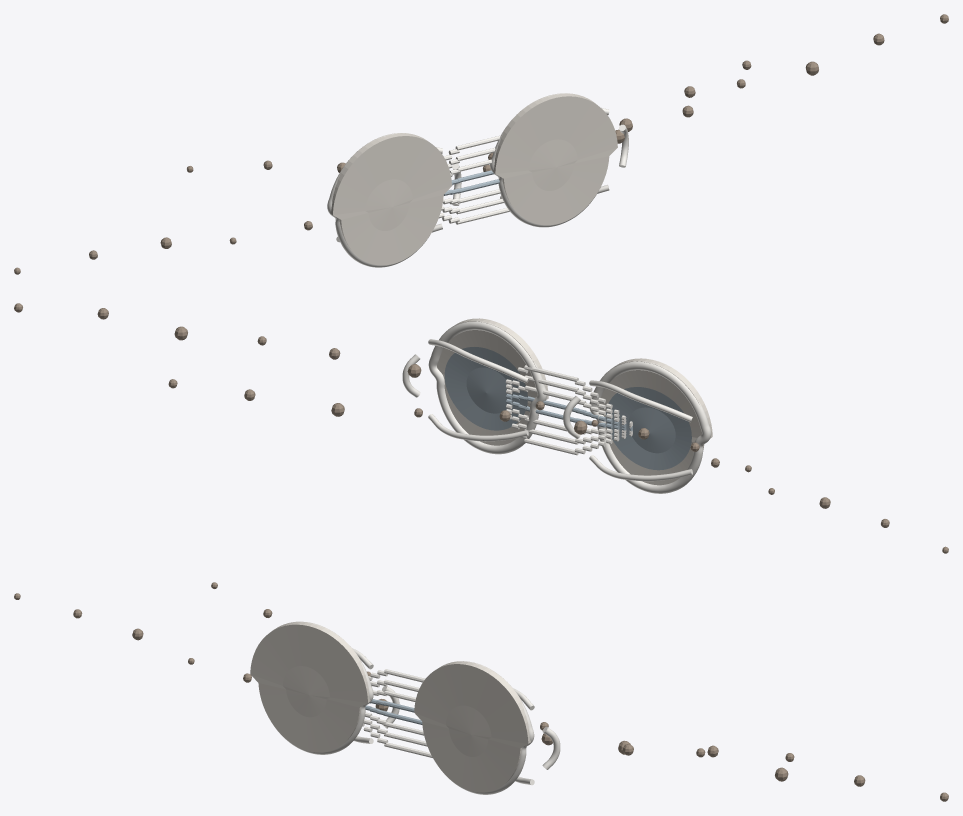
File: sandal.glb
3 renders of one model, top to bottom at view 1: azimuth 30°, elevation 25°; view 2: azimuth 150°, elevation 25°; view 3: azimuth 330°, elevation 25°, orthographic.
Visible parts, largest first — view 1: right_sole, left_sole, left_border, right_toeknots, right_border; view 2: left_center, right_center, left_sole, right_sole, right_border, left_border, left_strapL, left_strapR, right_strapL, right_strapR, left_toeknots, right_toeknots; view 3: left_sole, right_sole, right_border, left_border, right_toeknots.
Part boxes in pixels (x1=…): right_sole: x1=493, y1=93, x2=617, y2=225; left_sole: x1=330, y1=133, x2=451, y2=265; left_border: x1=327, y1=133, x2=428, y2=267; right_toeknots: x1=615, y1=14, x2=948, y2=143; right_border: x1=490, y1=93, x2=600, y2=227; left_center: x1=605, y1=387, x2=691, y2=470; right_center: x1=444, y1=347, x2=527, y2=430; left_sole: x1=597, y1=358, x2=712, y2=485; right_sole: x1=437, y1=318, x2=548, y2=445; right_border: x1=428, y1=321, x2=546, y2=454; left_border: x1=589, y1=361, x2=711, y2=493; left_strapL: x1=589, y1=380, x2=692, y2=422; left_strapR: x1=589, y1=455, x2=692, y2=481; right_strapL: x1=428, y1=339, x2=528, y2=383; right_strapR: x1=428, y1=414, x2=528, y2=441; left_toeknots: x1=168, y1=379, x2=587, y2=434; right_toeknots: x1=14, y1=303, x2=421, y2=377; left_sole: x1=250, y1=621, x2=370, y2=752; right_sole: x1=414, y1=661, x2=530, y2=792; right_border: x1=444, y1=661, x2=534, y2=794; left_border: x1=275, y1=622, x2=373, y2=754; right_toeknots: x1=541, y1=733, x2=948, y2=801.
Bounding box in the file's own units: 0.9158 × 0.122 × 0.1184.
